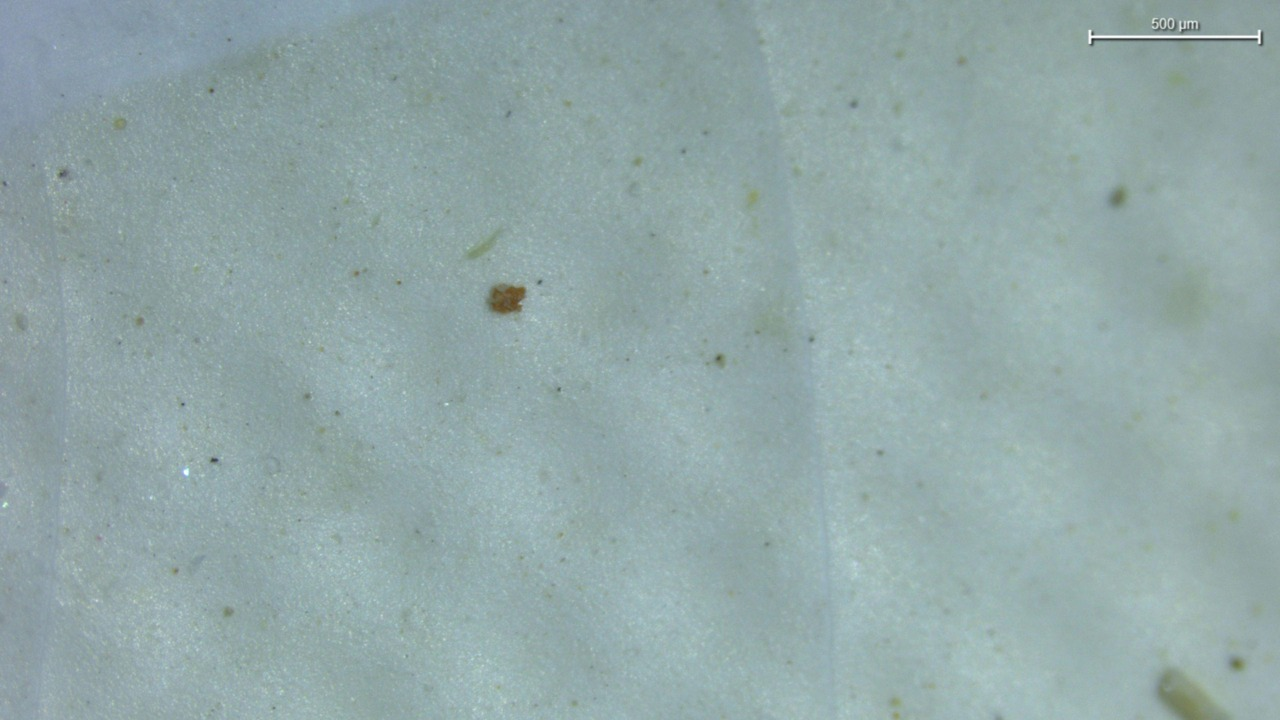microplastic_fragment: (488, 284, 526, 313)
